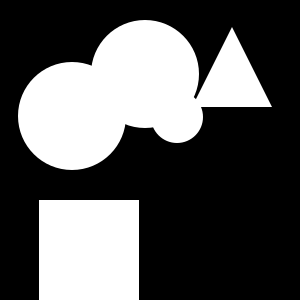circle: (39, 200, 139, 300)
rectangle: (91, 20, 199, 128), (18, 62, 126, 170), (151, 91, 203, 143)
triangle: (192, 27, 272, 107)
